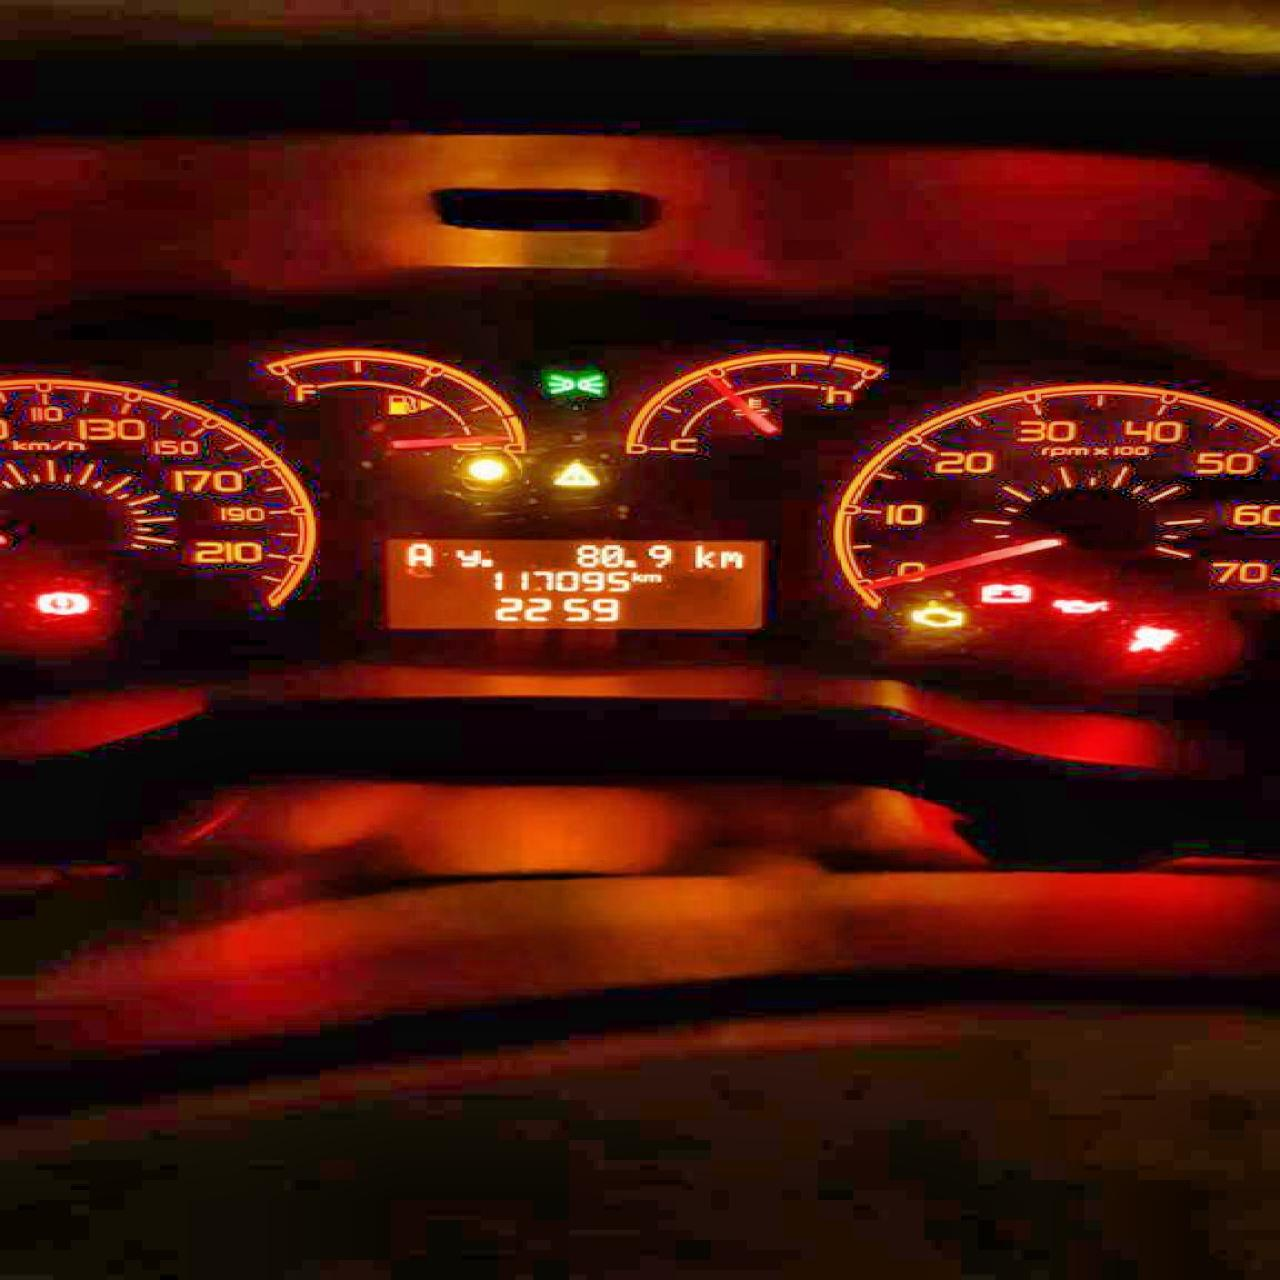-: (477, 557, 496, 567), (622, 558, 638, 567)
0: (598, 543, 625, 566), (553, 568, 580, 591)
1: (516, 568, 529, 591), (491, 570, 502, 590)
2: (522, 597, 551, 621), (493, 595, 519, 621)
5: (560, 597, 588, 621), (605, 570, 628, 591)
7: (531, 567, 551, 592)
8: (576, 543, 598, 567)
9: (591, 597, 618, 621), (647, 543, 673, 567), (580, 568, 605, 591)
X: (715, 547, 744, 568), (404, 542, 429, 565), (694, 543, 714, 567), (454, 547, 478, 566), (642, 572, 660, 581), (631, 570, 642, 581)
odometer: (376, 533, 771, 633)
